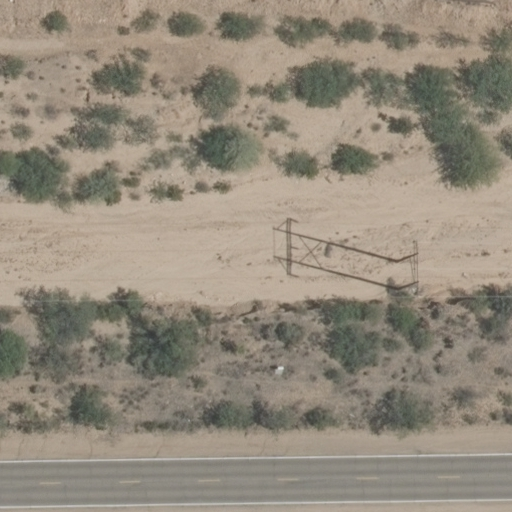DT: (383, 233, 431, 299)
